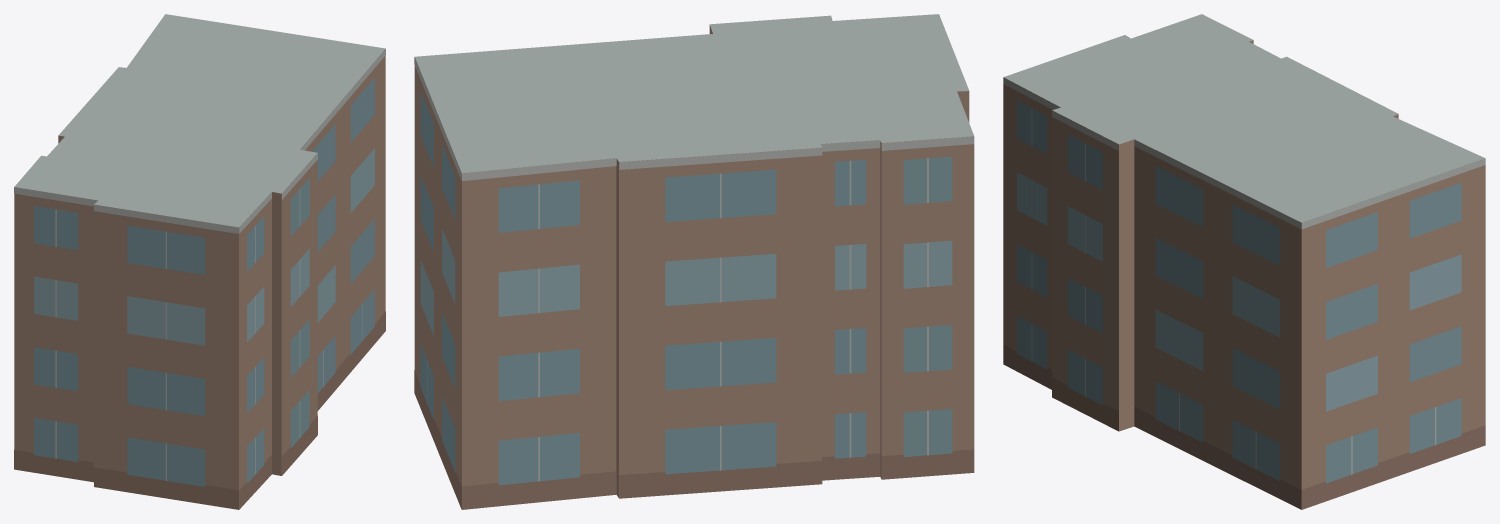
The model's file is survey-upis-32786929.glb.
3 renders of one model, left to right at view 1: azimuth 30°, elevation 25°; view 2: azimuth 150°, elevation 25°; view 3: azimuth 270°, elevation 25°, orthographic. The views are drawn at different scales.
Parts seen in each view (by area): view 1: survey-upis-32786929.tmp; view 2: survey-upis-32786929.tmp; view 3: survey-upis-32786929.tmp.
Part boxes in pixels (bbox=[...]): survey-upis-32786929.tmp: bbox=[14, 14, 385, 509]; survey-upis-32786929.tmp: bbox=[414, 14, 974, 509]; survey-upis-32786929.tmp: bbox=[1003, 14, 1485, 509].
Bounding box in the file's own units: 16.3 × 10.45 × 15.91.
